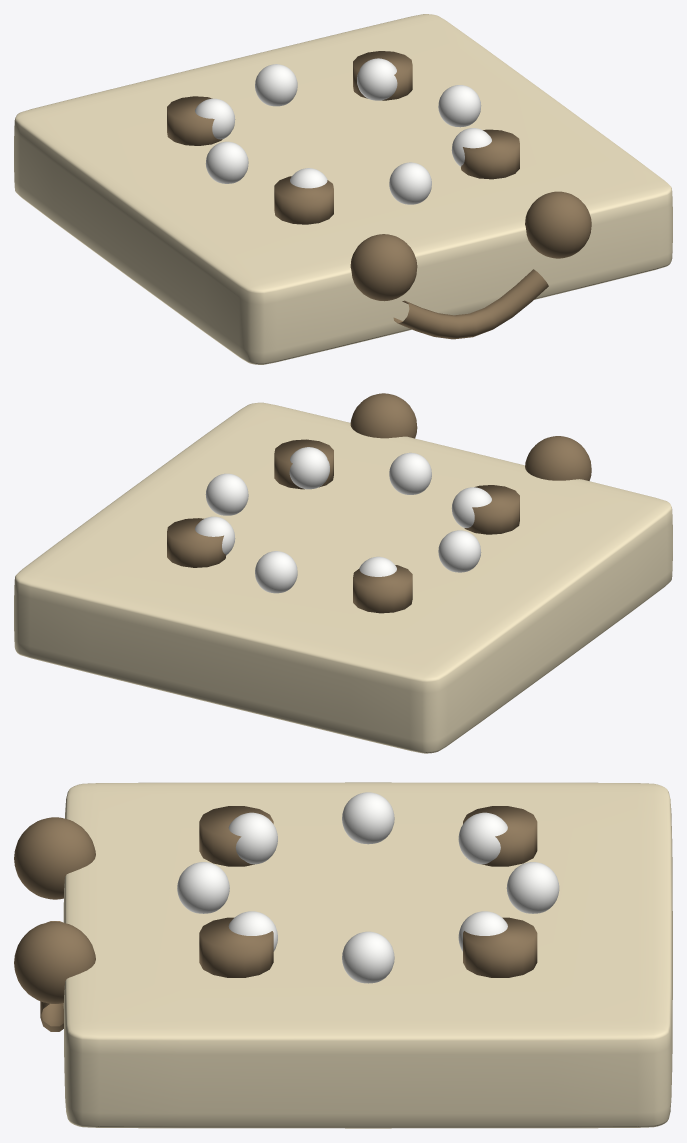
Rendered from Cracker.glb.
3 views of the same model, one above another, from view 1: azimuth 30°, elevation 25°; view 2: azimuth 150°, elevation 25°; view 3: azimuth 270°, elevation 25° (orthographic). The views are drawn at different scales.
Parts seen in each view (by area): view 1: Cracker_body, Cracker_smile, Cracker_eyeR, Cracker_eyeL, Cracker_hole0, Cracker_hole1, Cracker_hole2, Cracker_salt6, Cracker_salt2, Cracker_salt4, Cracker_salt0, Cracker_salt1 (+4 smaller); view 2: Cracker_body, Cracker_eyeR, Cracker_eyeL, Cracker_hole2, Cracker_hole3, Cracker_hole0, Cracker_salt2, Cracker_salt0, Cracker_salt4, Cracker_salt6, Cracker_salt7, Cracker_hole1 (+3 smaller); view 3: Cracker_body, Cracker_eyeL, Cracker_eyeR, Cracker_hole3, Cracker_hole1, Cracker_hole2, Cracker_hole0, Cracker_salt4, Cracker_salt0, Cracker_salt6, Cracker_salt2, Cracker_salt3 (+4 smaller).
Part boxes in pixels (box(x1,y1,x2,y2)): Cracker_body: box(14, 14, 672, 364); Cracker_smile: box(393, 269, 548, 339); Cracker_eyeR: box(525, 191, 591, 258); Cracker_eyeL: box(350, 234, 417, 301); Cracker_hole0: box(274, 176, 333, 224); Cracker_hole1: box(461, 129, 519, 179); Cracker_hole2: box(167, 96, 222, 145); Cracker_salt6: box(389, 162, 431, 204); Cracker_salt2: box(255, 64, 297, 106); Cracker_salt4: box(205, 141, 248, 183); Cracker_salt0: box(438, 85, 481, 127); Cracker_salt1: box(357, 58, 397, 100); Cracker_body: box(14, 402, 672, 753); Cracker_eyeR: box(350, 393, 417, 438); Cracker_eyeL: box(525, 436, 591, 480); Cracker_hole2: box(353, 565, 412, 613); Cracker_hole3: box(167, 518, 225, 567); Cracker_hole0: box(464, 485, 519, 534); Cracker_salt2: box(255, 551, 297, 593); Cracker_salt0: box(205, 473, 248, 515); Cracker_salt4: box(438, 530, 481, 572); Cracker_salt6: box(389, 452, 431, 494); Cracker_salt7: box(289, 447, 329, 489); Cracker_hole1: box(274, 439, 333, 489); Cracker_body: box(63, 782, 672, 1128); Cracker_eyeL: box(14, 817, 95, 899); Cracker_eyeR: box(14, 921, 95, 1003); Cracker_hole3: box(463, 917, 537, 977); Cracker_hole1: box(199, 917, 273, 977); Cracker_hole2: box(463, 806, 537, 866); Cracker_hole0: box(199, 806, 273, 866); Cracker_salt4: box(342, 792, 394, 844); Cracker_salt0: box(342, 931, 394, 983); Cracker_salt6: box(177, 862, 229, 913); Cracker_salt2: box(506, 862, 559, 913); Cracker_salt3: box(458, 812, 507, 864).
Size of the model in its own units: 0.7395 by 0.2091 by 0.7998.
